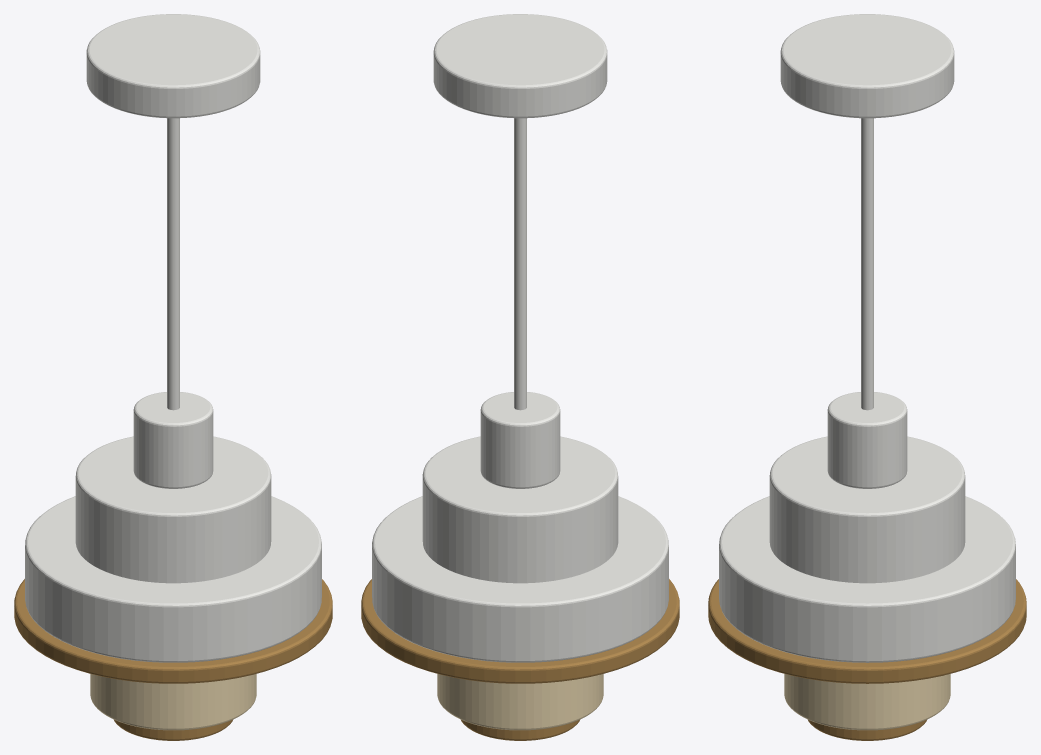
The model's file is cafe-pendant-lamp-01--matte-white.glb.
3 renders of one model, left to right at view 1: azimuth 30°, elevation 25°; view 2: azimuth 150°, elevation 25°; view 3: azimuth 270°, elevation 25°, orthographic.
Parts seen in each view (by area): view 1: cafe-pendant-lamp-01--matte-white; view 2: cafe-pendant-lamp-01--matte-white; view 3: cafe-pendant-lamp-01--matte-white.
Part boxes in pixels (x1,y1,x2,y2): cafe-pendant-lamp-01--matte-white: (14, 14, 332, 740); cafe-pendant-lamp-01--matte-white: (361, 14, 679, 740); cafe-pendant-lamp-01--matte-white: (708, 14, 1026, 740).
Size of the model in its own units: 0.44 by 1.01 by 0.44.
